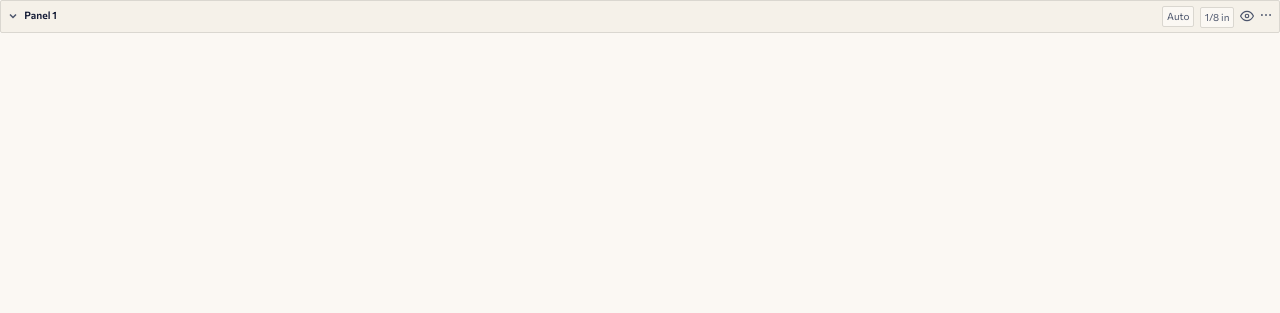
Test: PanelHeader — material chip + popover (auto-collapse) › picking a material commits { materialId } AND auto-collapses the popover
Click the button with aria-label "Panel material" at (1178, 16), box [1162, 6, 1194, 27]
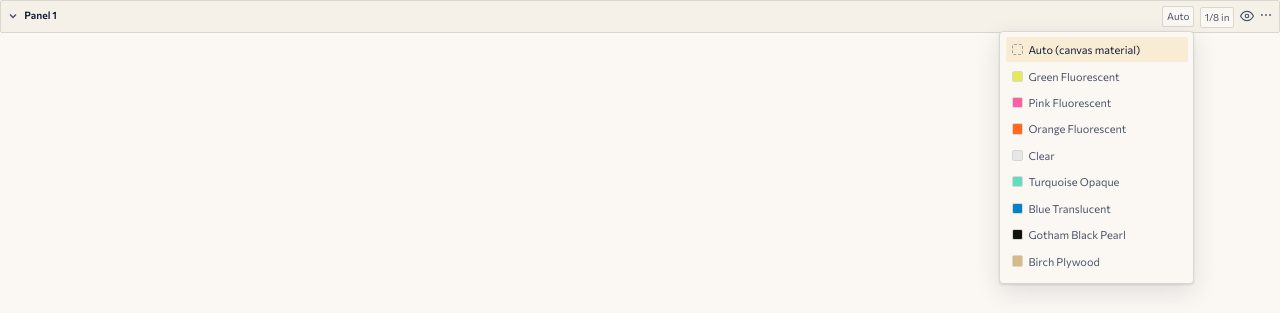
Click the option "Green Fluorescent" at (1097, 76), box [1006, 64, 1188, 88]
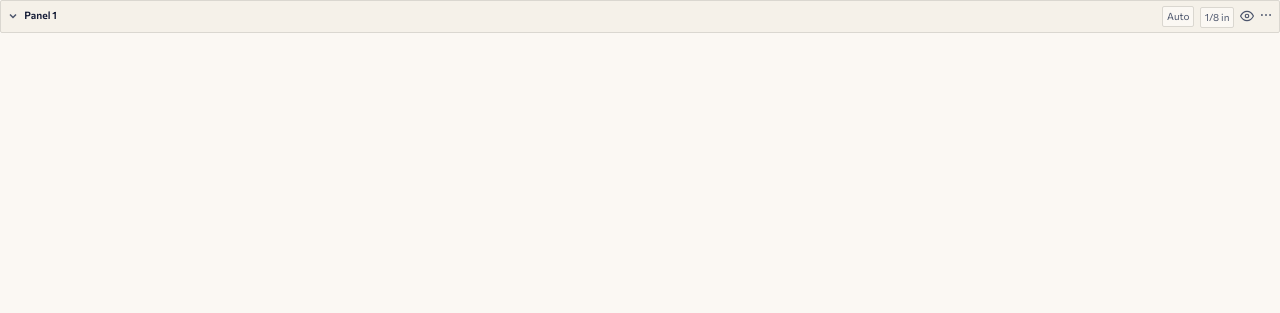
Expected: the element with test id "panel-material-popover" is gone
